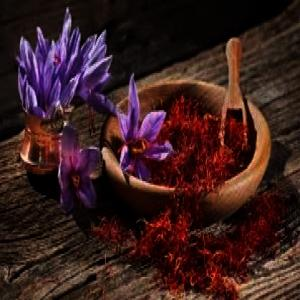Saffron: (116, 75, 172, 180), (59, 126, 104, 212)
